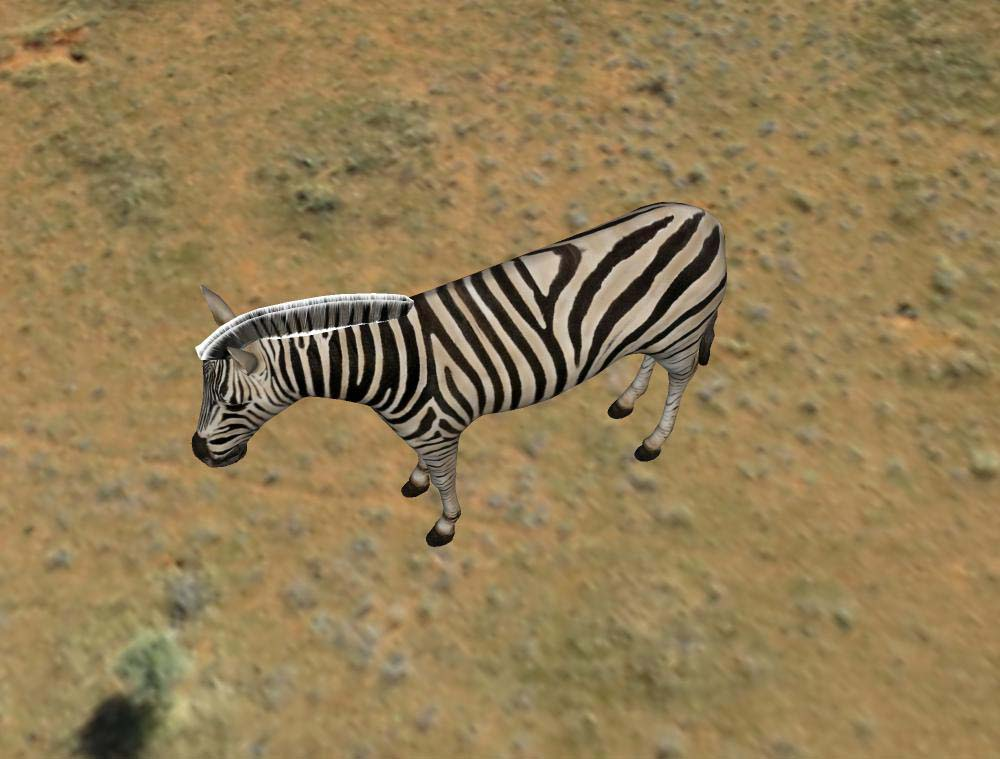zebra: (190, 199, 734, 543)
